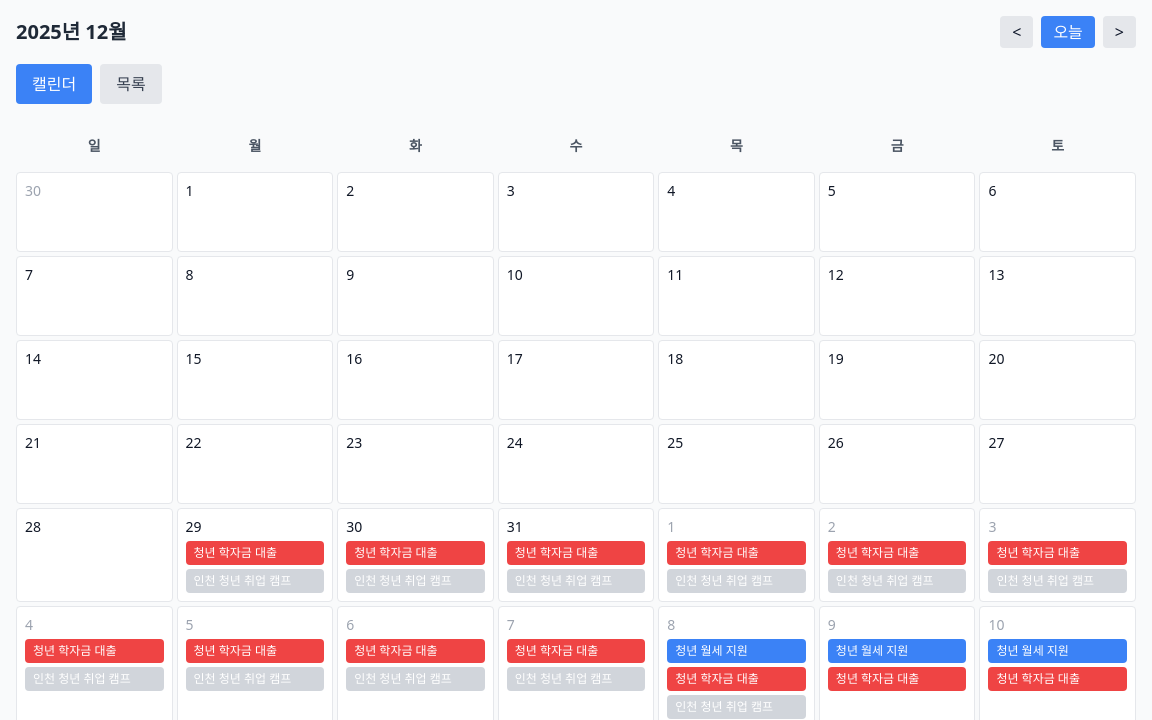
CalendarView › 오늘 버튼이 동작한다
This screenshot has width=1152, height=720.
Expected: the heading "2025년 12월" is shown, [16,18,127,46]
Click the button "오늘": point(1068, 32) [1041,16,1095,48]
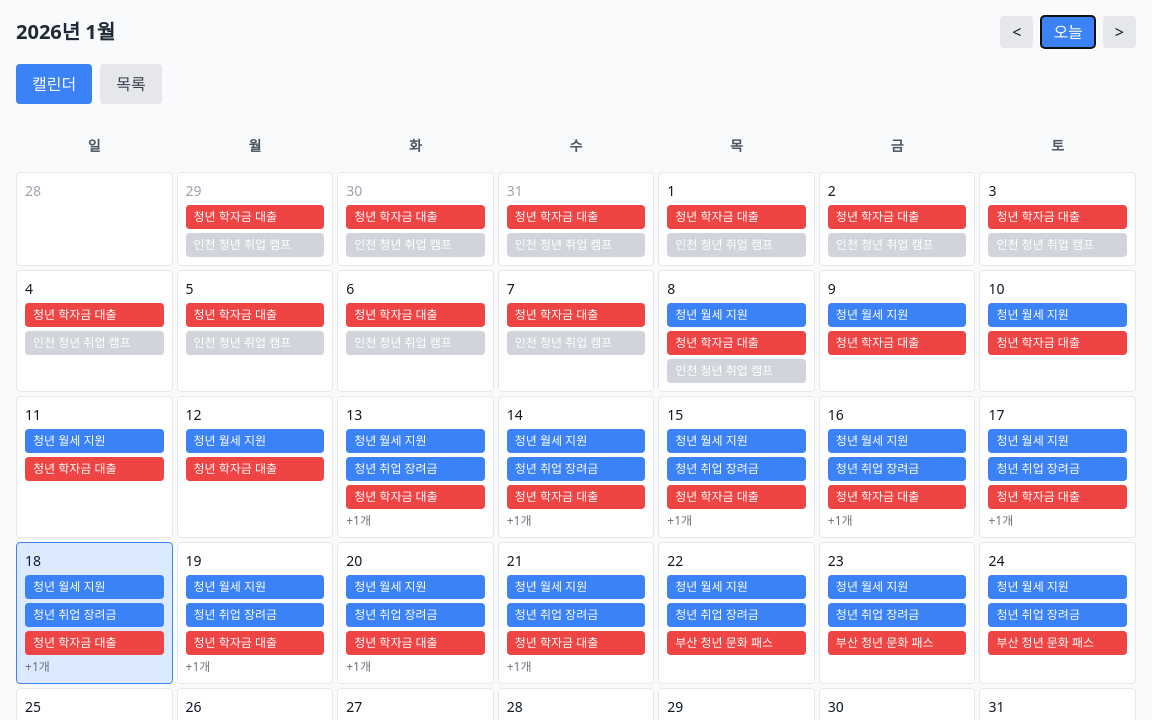
Now the heading "2026년 1월" is shown, box [16,18,115,46]
